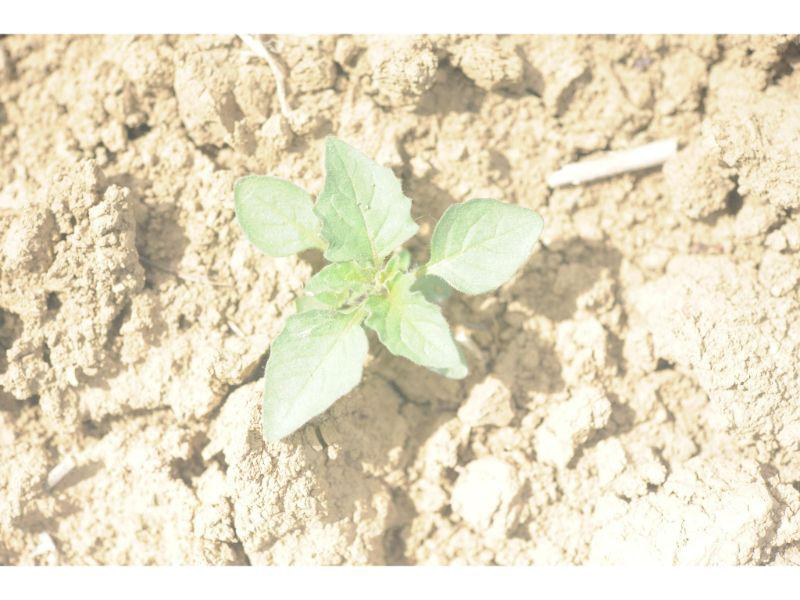nightshade: (236, 134, 545, 445)
